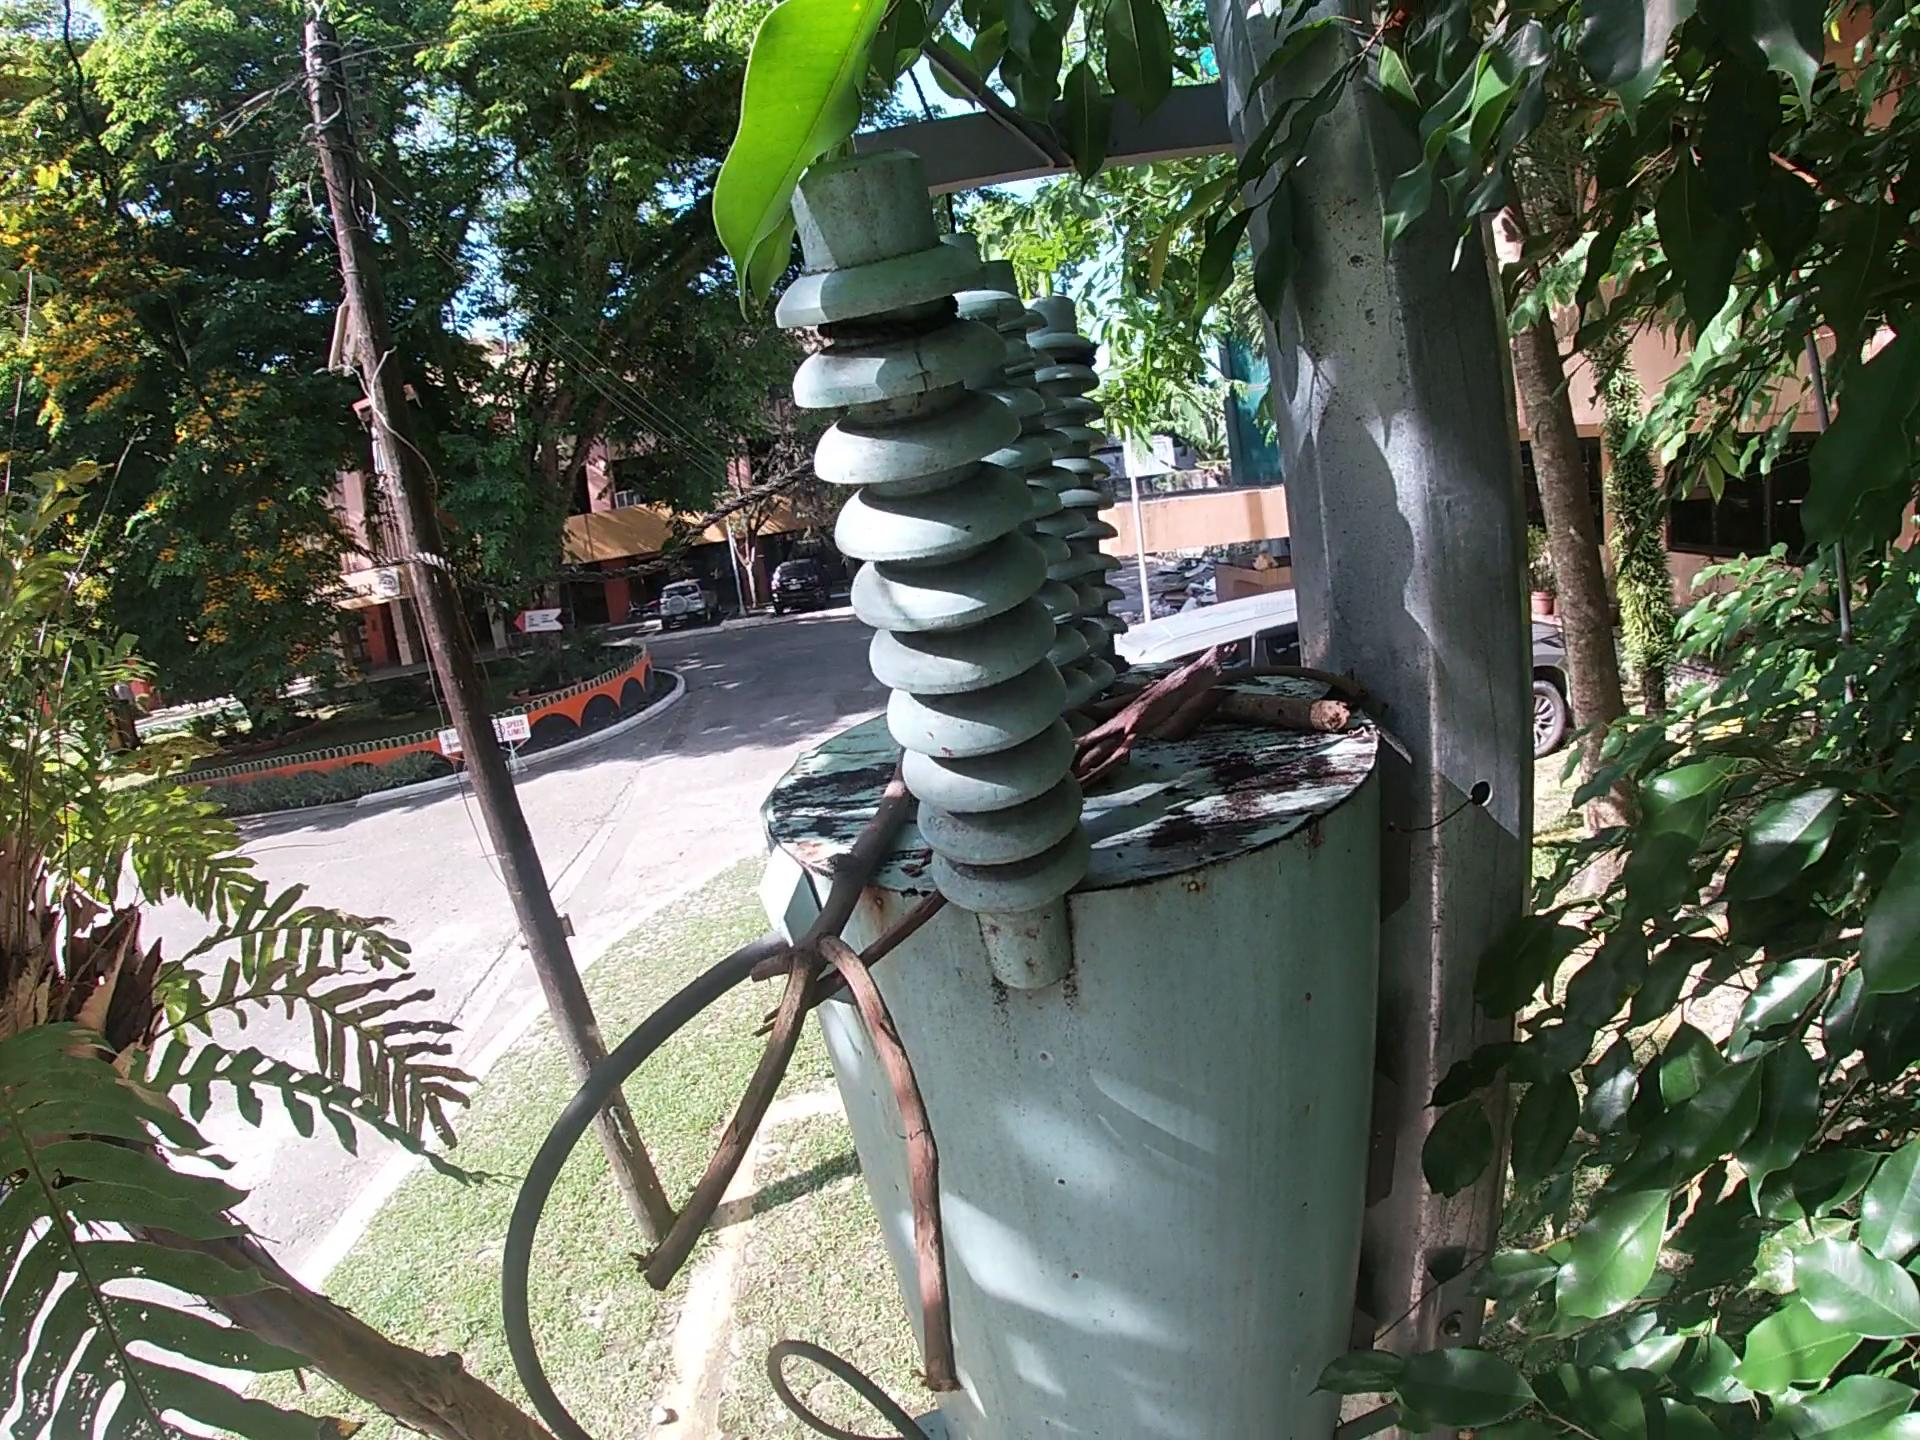leaf: (1147, 682, 1238, 749), (1317, 667, 1368, 711)
tree branch: (615, 741, 981, 1414), (742, 883, 951, 1047), (1064, 637, 1246, 796), (1107, 672, 1352, 737), (1226, 655, 1374, 708)
